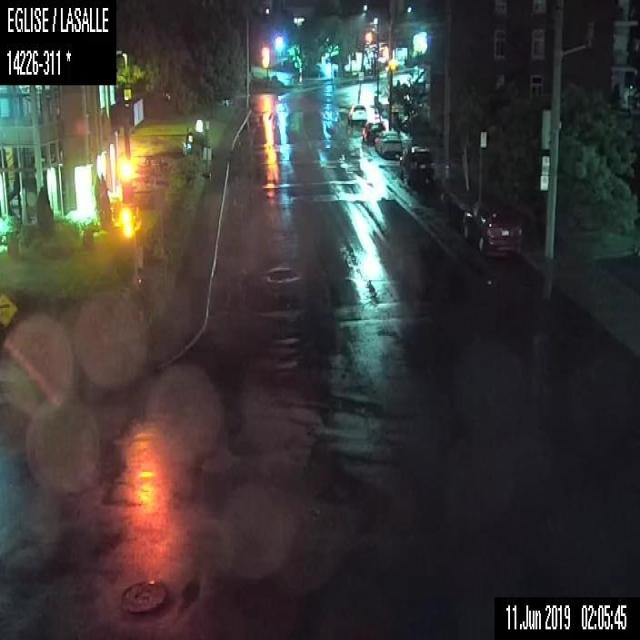vehicle: (462, 200, 522, 255), (400, 144, 432, 182), (374, 128, 404, 156), (361, 121, 384, 142), (347, 103, 366, 122)
